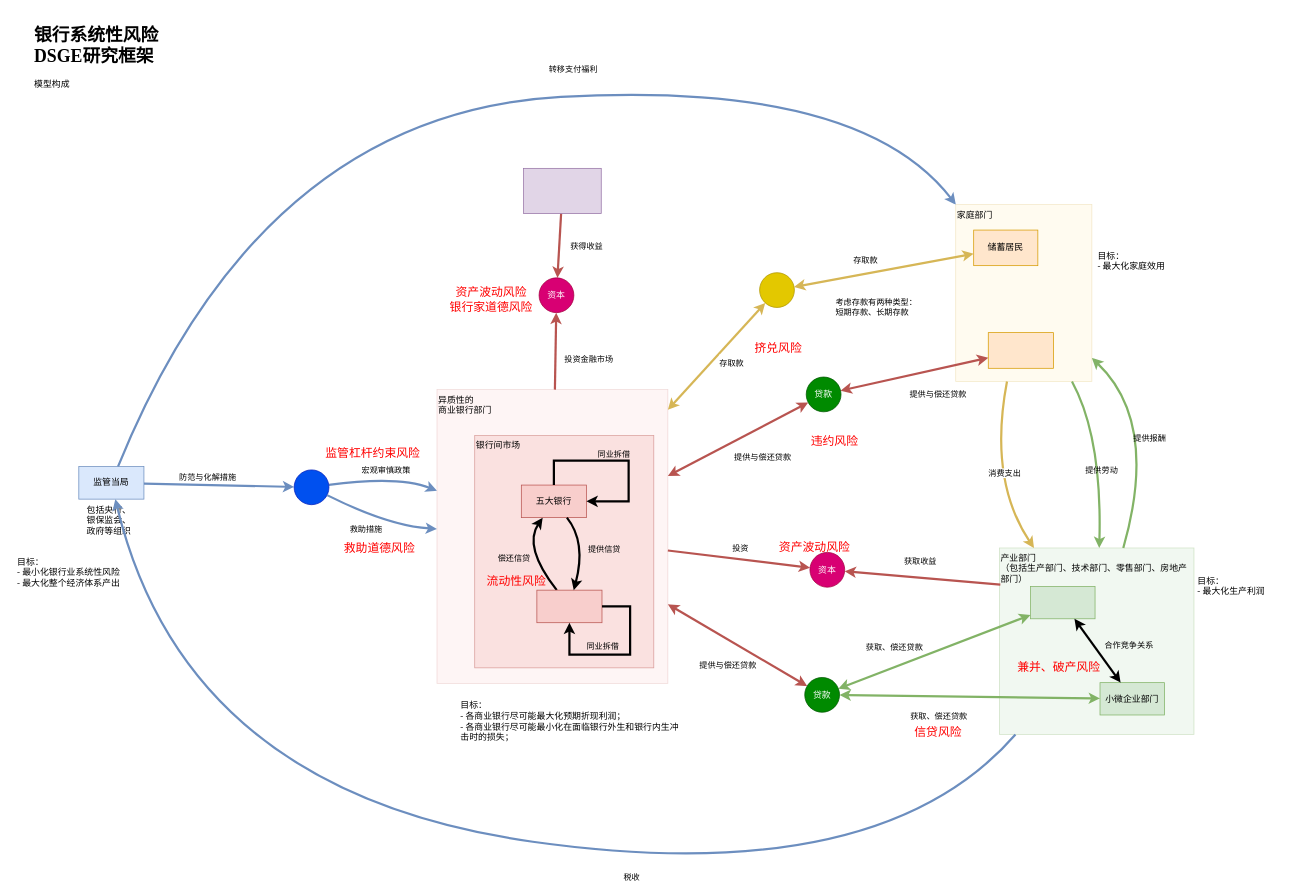
Some shapes in this 1299 by 895 pixel diagram are drawn without their labels. The centre of each missing label's shape, as x and y in pixels:
中小银行: the point at 569,606
借款居民: the point at 1021,350
大型企业部门: the point at 1062,602
存款: the point at 776,289
对策: the point at 311,487
金融市场: the point at 562,190
